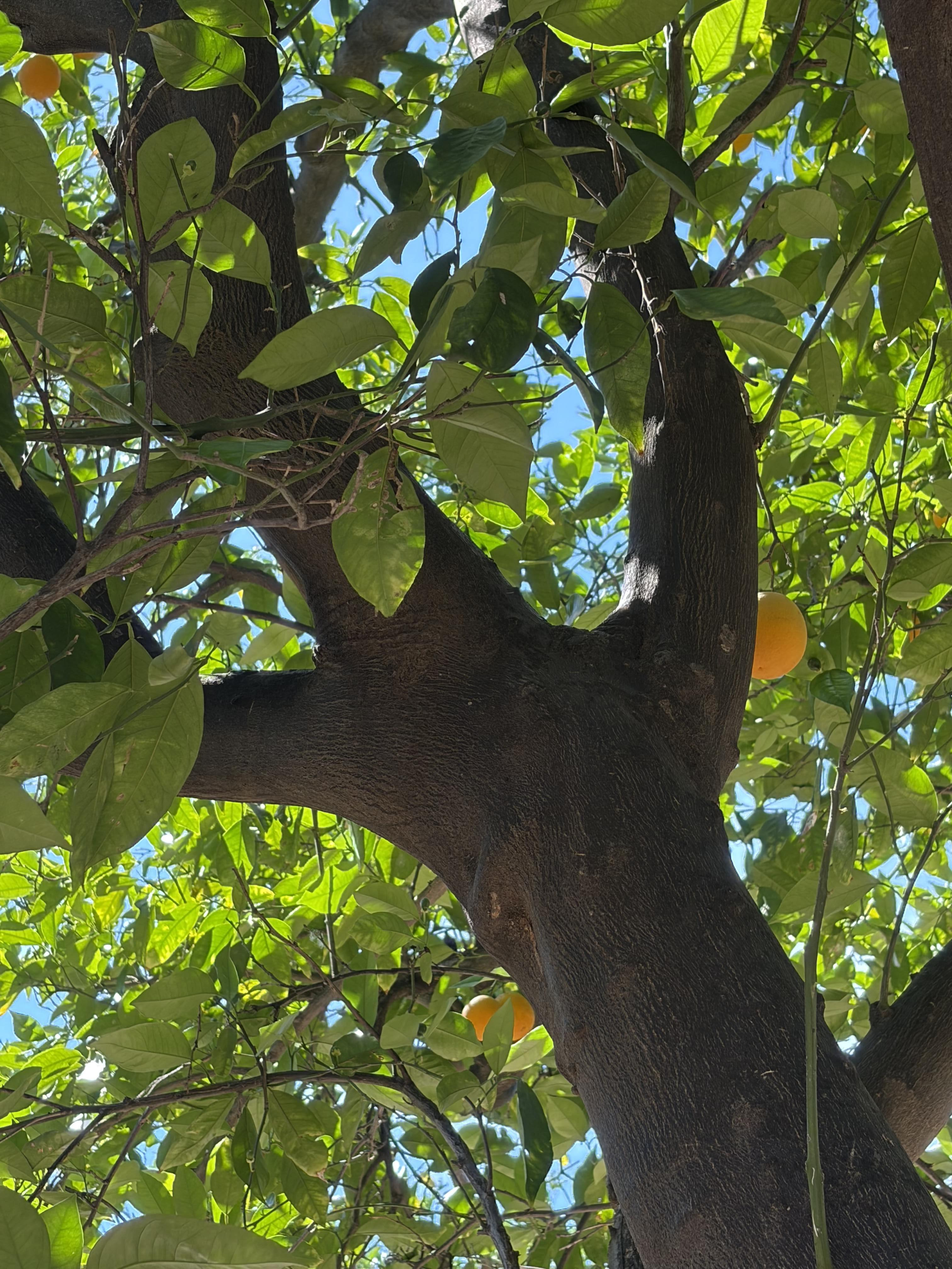orange: (752, 592, 807, 679), (18, 55, 61, 100), (495, 993, 535, 1041), (462, 995, 500, 1042), (73, 51, 97, 60)
